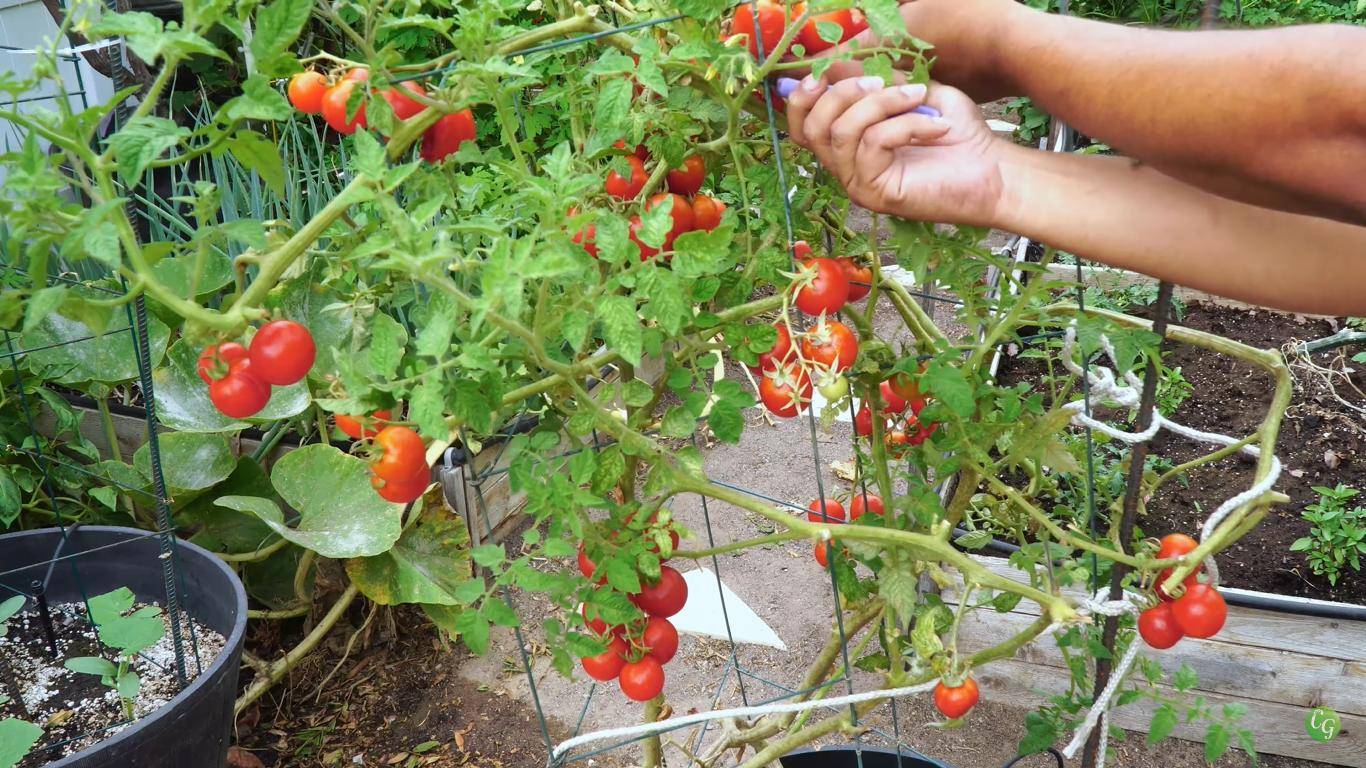Spider Mites: (594, 290, 644, 369), (671, 222, 739, 278), (640, 264, 684, 339), (874, 562, 919, 631), (594, 76, 635, 149), (409, 378, 452, 444), (593, 204, 632, 265), (636, 192, 676, 249), (587, 442, 626, 499), (908, 604, 944, 659), (635, 56, 669, 101), (560, 306, 591, 355), (661, 404, 699, 440), (619, 373, 654, 409), (566, 409, 595, 438)
